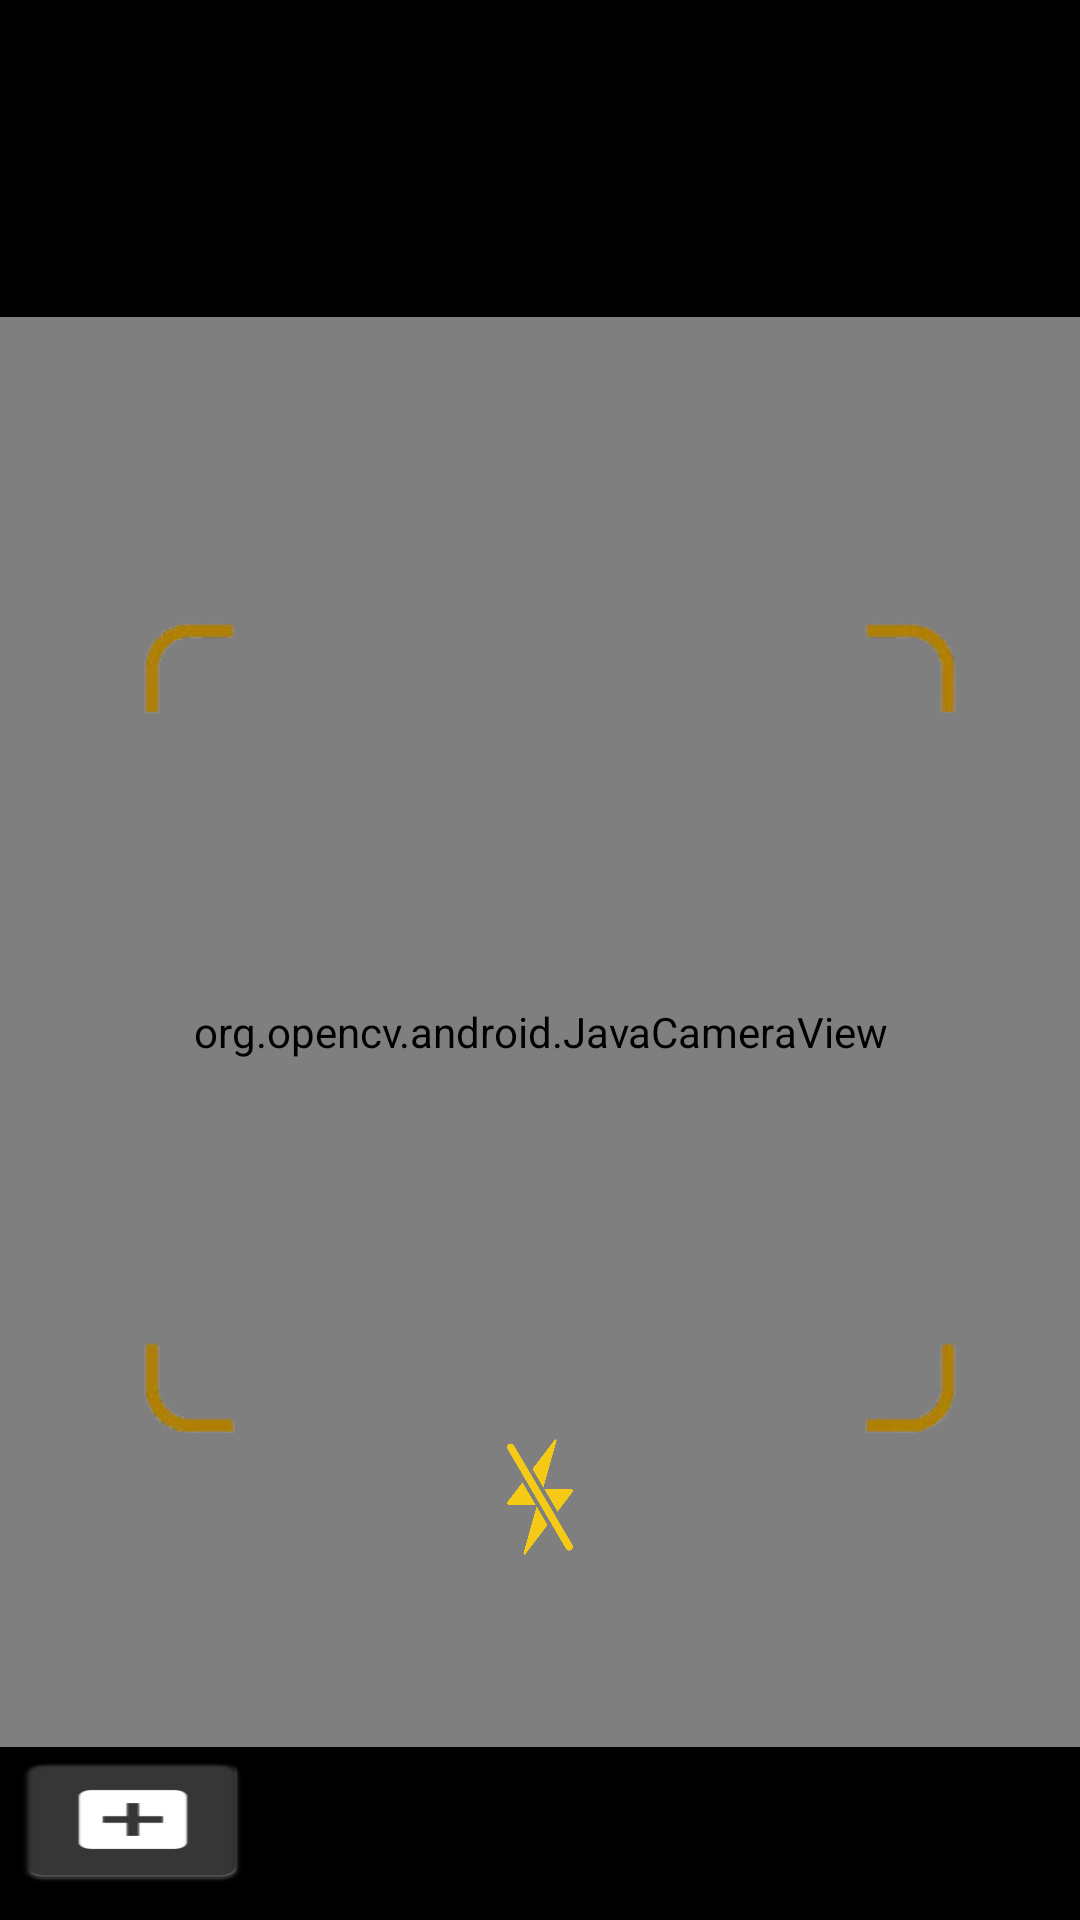

Icon click points for this 1080px x 1920px phone screenshot, format [x,y]:
plus: [132,1822]
